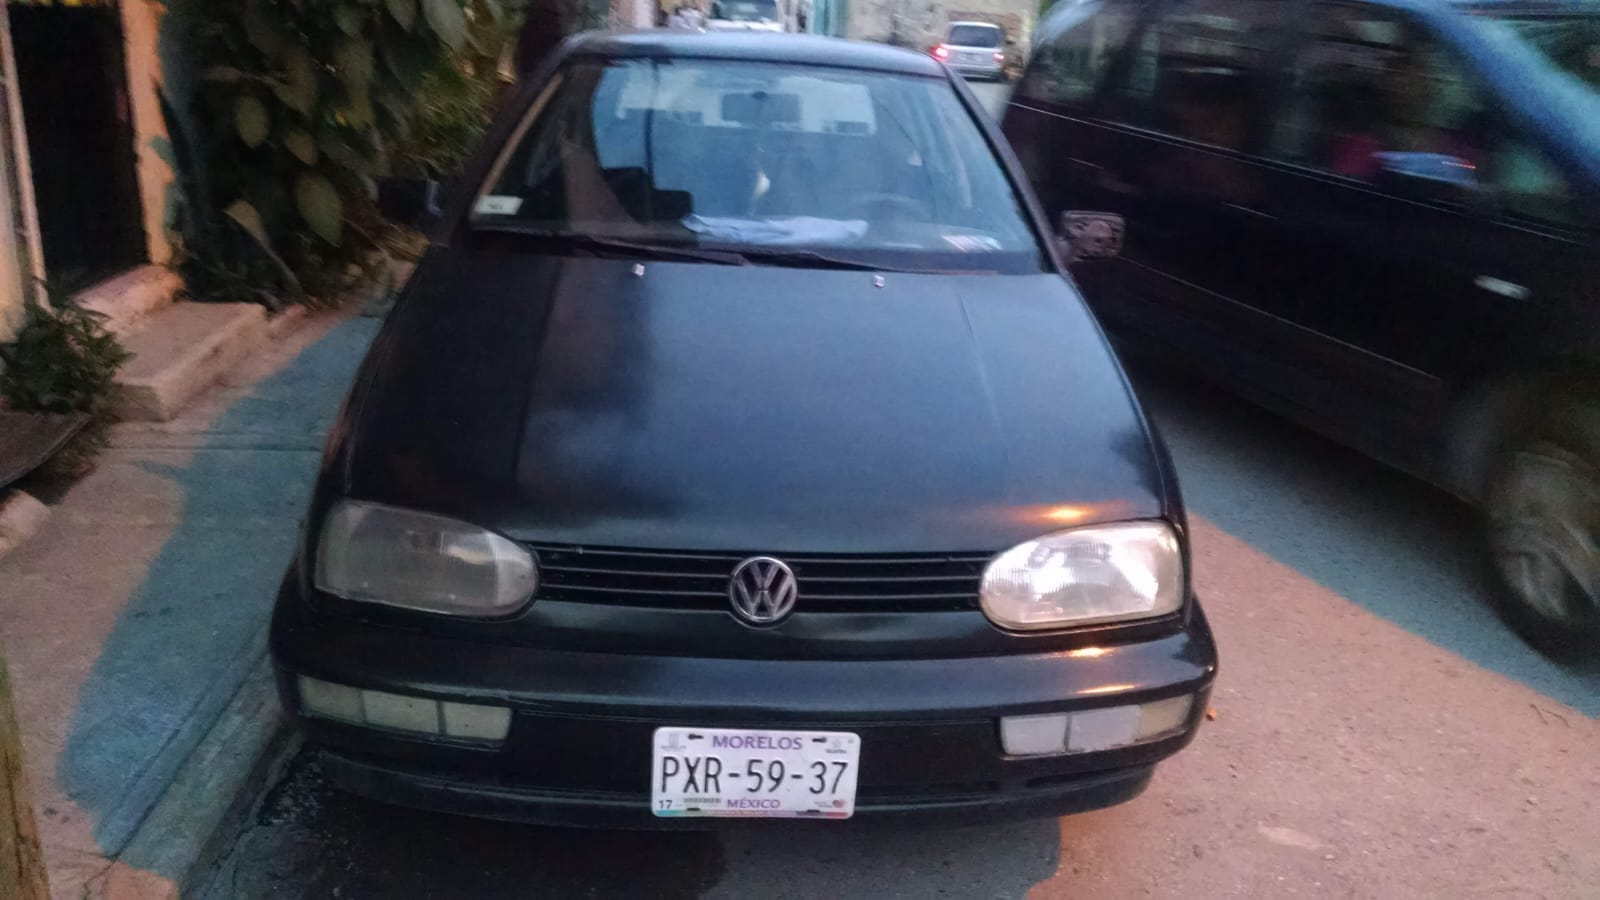Auto: (266, 35, 1210, 835), (1000, 1, 1591, 677), (925, 11, 1022, 82)
